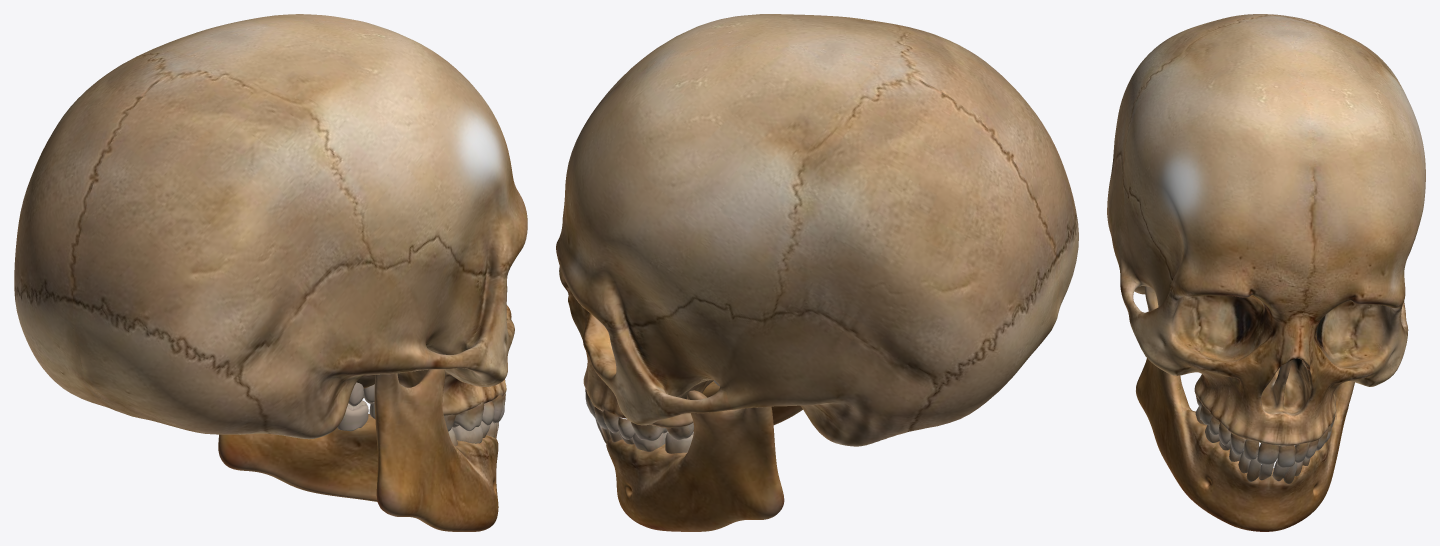
Rendered from monkey.glb.
The picture shows the model from 3 angles, left to right: view 1: azimuth 30°, elevation 25°; view 2: azimuth 150°, elevation 25°; view 3: azimuth 270°, elevation 25°; orthographic projection. The views are drawn at different scales.
Visible parts, largest first — view 1: 12140_Skull_v3_L2; view 2: 12140_Skull_v3_L2; view 3: 12140_Skull_v3_L2.
Part boxes in pixels (bbox=[...]): 12140_Skull_v3_L2: bbox=[14, 14, 527, 531]; 12140_Skull_v3_L2: bbox=[556, 14, 1078, 531]; 12140_Skull_v3_L2: bbox=[1107, 14, 1425, 531].
Size of the model in its own units: 28.57 by 30.35 by 21.11.
1 material, 1 textured.
